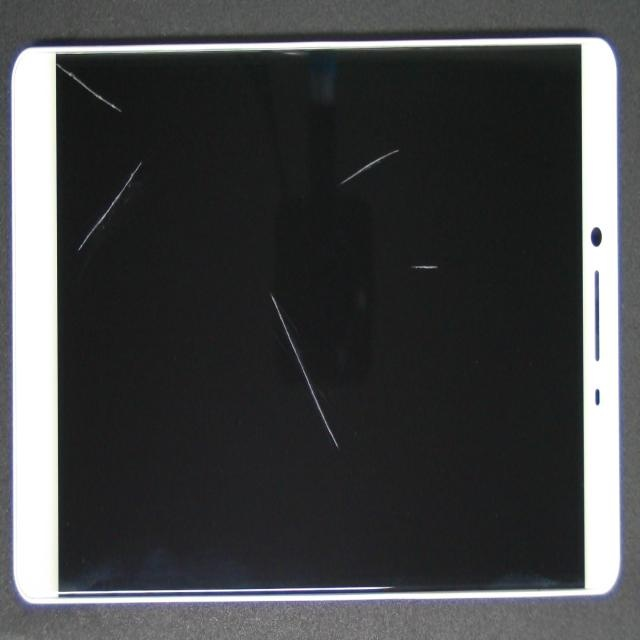scratch: (238, 126, 640, 383), (216, 328, 491, 600), (206, 85, 603, 215), (112, 19, 177, 266), (11, 0, 94, 106)
